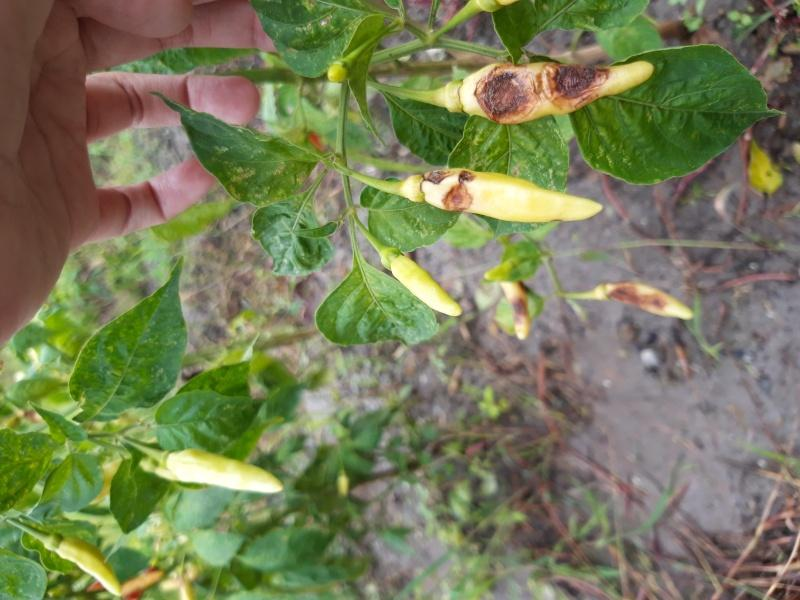antraknosa: (458, 54, 652, 127), (416, 167, 602, 221), (598, 280, 695, 322)
cabai_normal: (163, 447, 285, 494), (383, 250, 463, 314), (52, 534, 122, 594)
